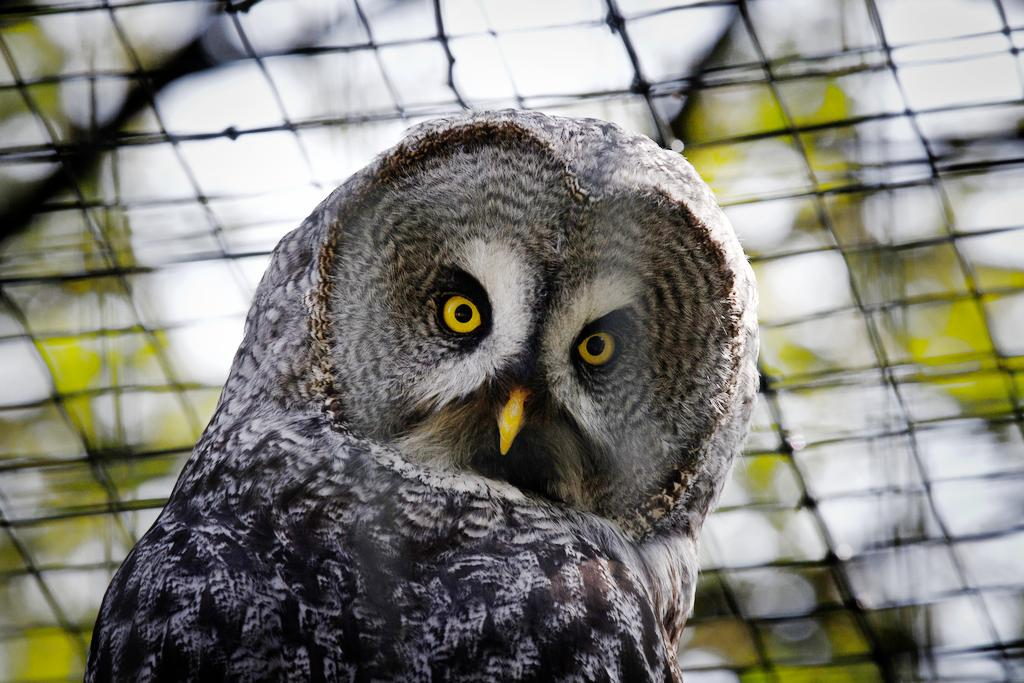Owl: (83, 107, 761, 683)
